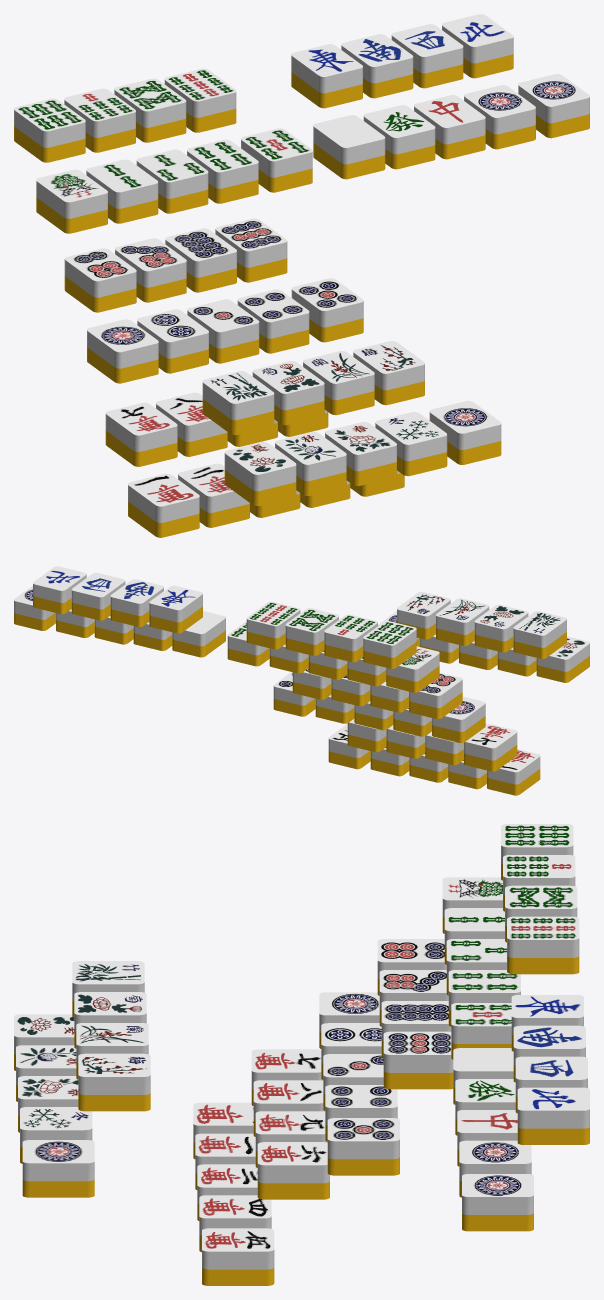
File: alltiles.fbx
The picture shows the model from 3 angles, top to bottom: view 1: azimuth 30°, elevation 25°; view 2: azimuth 150°, elevation 25°; view 3: azimuth 270°, elevation 25°; orthographic projection. The views are drawn at different scales.
Visible parts, largest first — view 1: Plane.005, Plane.015, Plane.029, Plane.043, Plane.039, Plane.011, Plane.020, Plane.033, Plane.001, Plane.024, Plane.010, Plane.047 (+33 smaller); view 2: Plane.033, Plane.043, Plane.024, Plane.015, Plane.035, Plane.027, Plane.044, Plane.025, Plane.034, Plane.026, Plane.005, Plane.037 (+32 smaller); view 3: Plane.027, Plane.046, Plane.047, Plane.010, Plane.019, Plane.037, Plane.038, Plane.018, Plane.008, Plane.028, Plane.014, Plane.032 (+33 smaller).
Boxes of the visible parts, x1,y1,x2,y2 form: Plane.005: (64, 248, 136, 312); Plane.015: (105, 402, 177, 466); Plane.029: (313, 115, 385, 179); Plane.043: (202, 371, 274, 435); Plane.039: (224, 442, 296, 506); Plane.011: (128, 473, 199, 537); Plane.020: (36, 169, 107, 233); Plane.033: (291, 44, 362, 108); Plane.001: (87, 319, 158, 383); Plane.024: (14, 98, 85, 162); Plane.010: (291, 278, 363, 342); Plane.047: (429, 400, 501, 464); Plane.033: (149, 585, 202, 633); Plane.043: (513, 611, 566, 658); Plane.024: (363, 621, 416, 668); Plane.015: (464, 724, 517, 771); Plane.035: (71, 572, 125, 620); Plane.027: (246, 601, 300, 649); Plane.044: (474, 604, 528, 652); Plane.025: (324, 614, 377, 662); Plane.034: (110, 579, 163, 626); Plane.026: (285, 608, 338, 655); Plane.005: (409, 672, 462, 719); Plane.037: (33, 566, 86, 614); Plane.027: (507, 916, 579, 974); Plane.046: (78, 1053, 150, 1111); Plane.047: (22, 1140, 94, 1197); Plane.010: (327, 1118, 399, 1175); Plane.019: (202, 1228, 274, 1285); Plane.037: (517, 1087, 589, 1144); Plane.038: (462, 1174, 533, 1231); Plane.018: (257, 1142, 329, 1199); Plane.008: (383, 1031, 453, 1089); Plane.028: (451, 1003, 511, 1059); Plane.014: (199, 1195, 271, 1252); Plane.032: (459, 1140, 531, 1197).
Size of the model in its own units: 4291 by 2289 by 3506.
